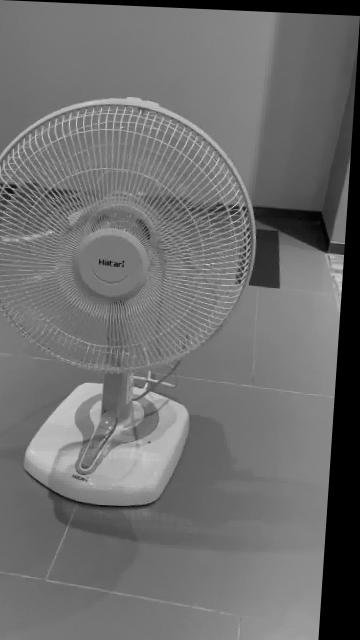Fan: (0, 97, 259, 507)
